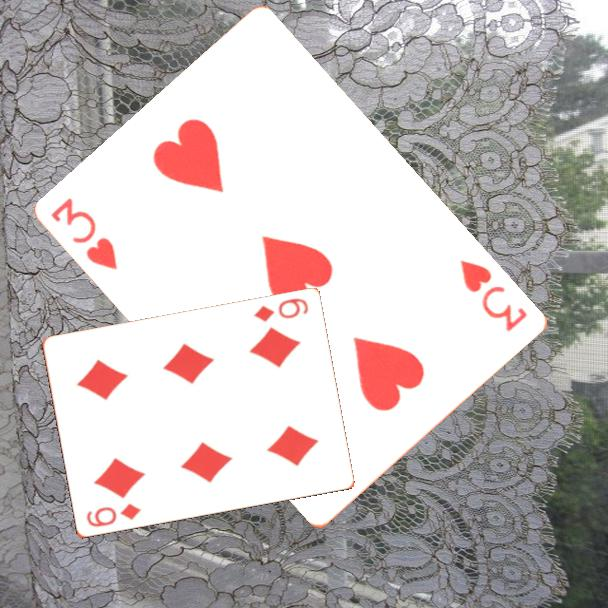d06: (250, 295, 311, 325), (83, 500, 143, 530)
h03: (457, 256, 531, 335), (48, 194, 122, 273)
